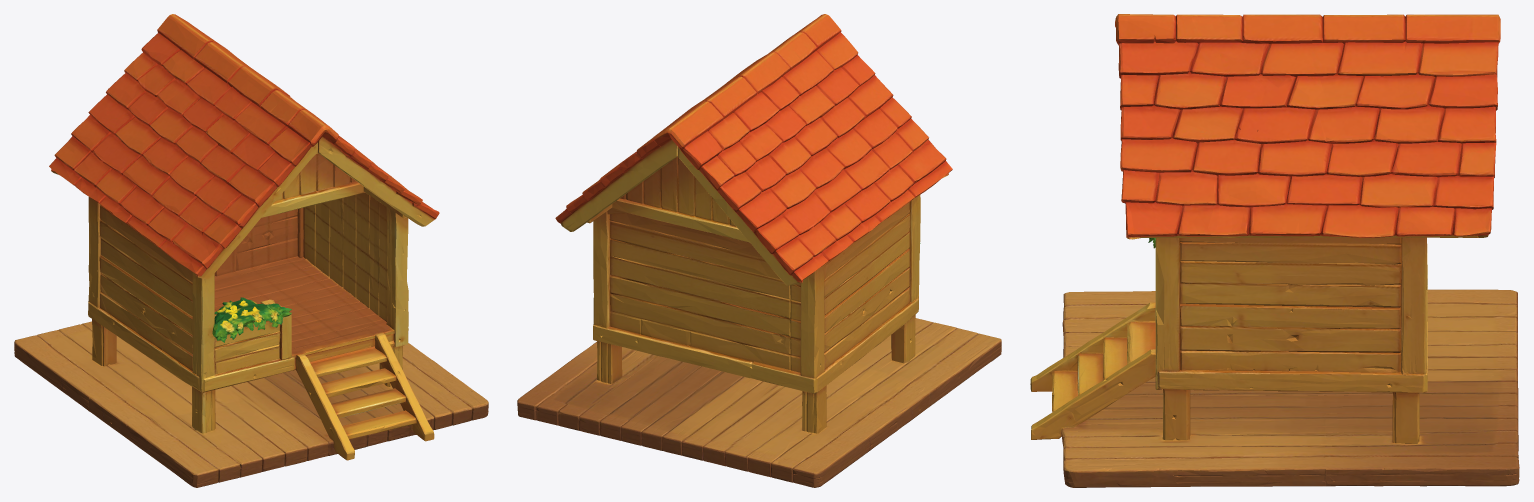
Rendered from DOM_budka_4__base.glb.
The picture shows the model from 3 angles, left to right: view 1: azimuth 30°, elevation 25°; view 2: azimuth 150°, elevation 25°; view 3: azimuth 270°, elevation 25°; orthographic projection. The views are drawn at different scales.
Visible parts, largest first — view 1: tripo_node_e985e38c-5680-4531-8c0c-25c6eacf81e7; view 2: tripo_node_e985e38c-5680-4531-8c0c-25c6eacf81e7; view 3: tripo_node_e985e38c-5680-4531-8c0c-25c6eacf81e7.
Part boxes in pixels (x1,y1,x2,y2): tripo_node_e985e38c-5680-4531-8c0c-25c6eacf81e7: (14, 14, 488, 487); tripo_node_e985e38c-5680-4531-8c0c-25c6eacf81e7: (517, 14, 1001, 487); tripo_node_e985e38c-5680-4531-8c0c-25c6eacf81e7: (1030, 14, 1519, 487).
Size of the model in its own units: 0.8571 by 0.8547 by 0.9802.
Materials: 1 (1 with a texture image).
